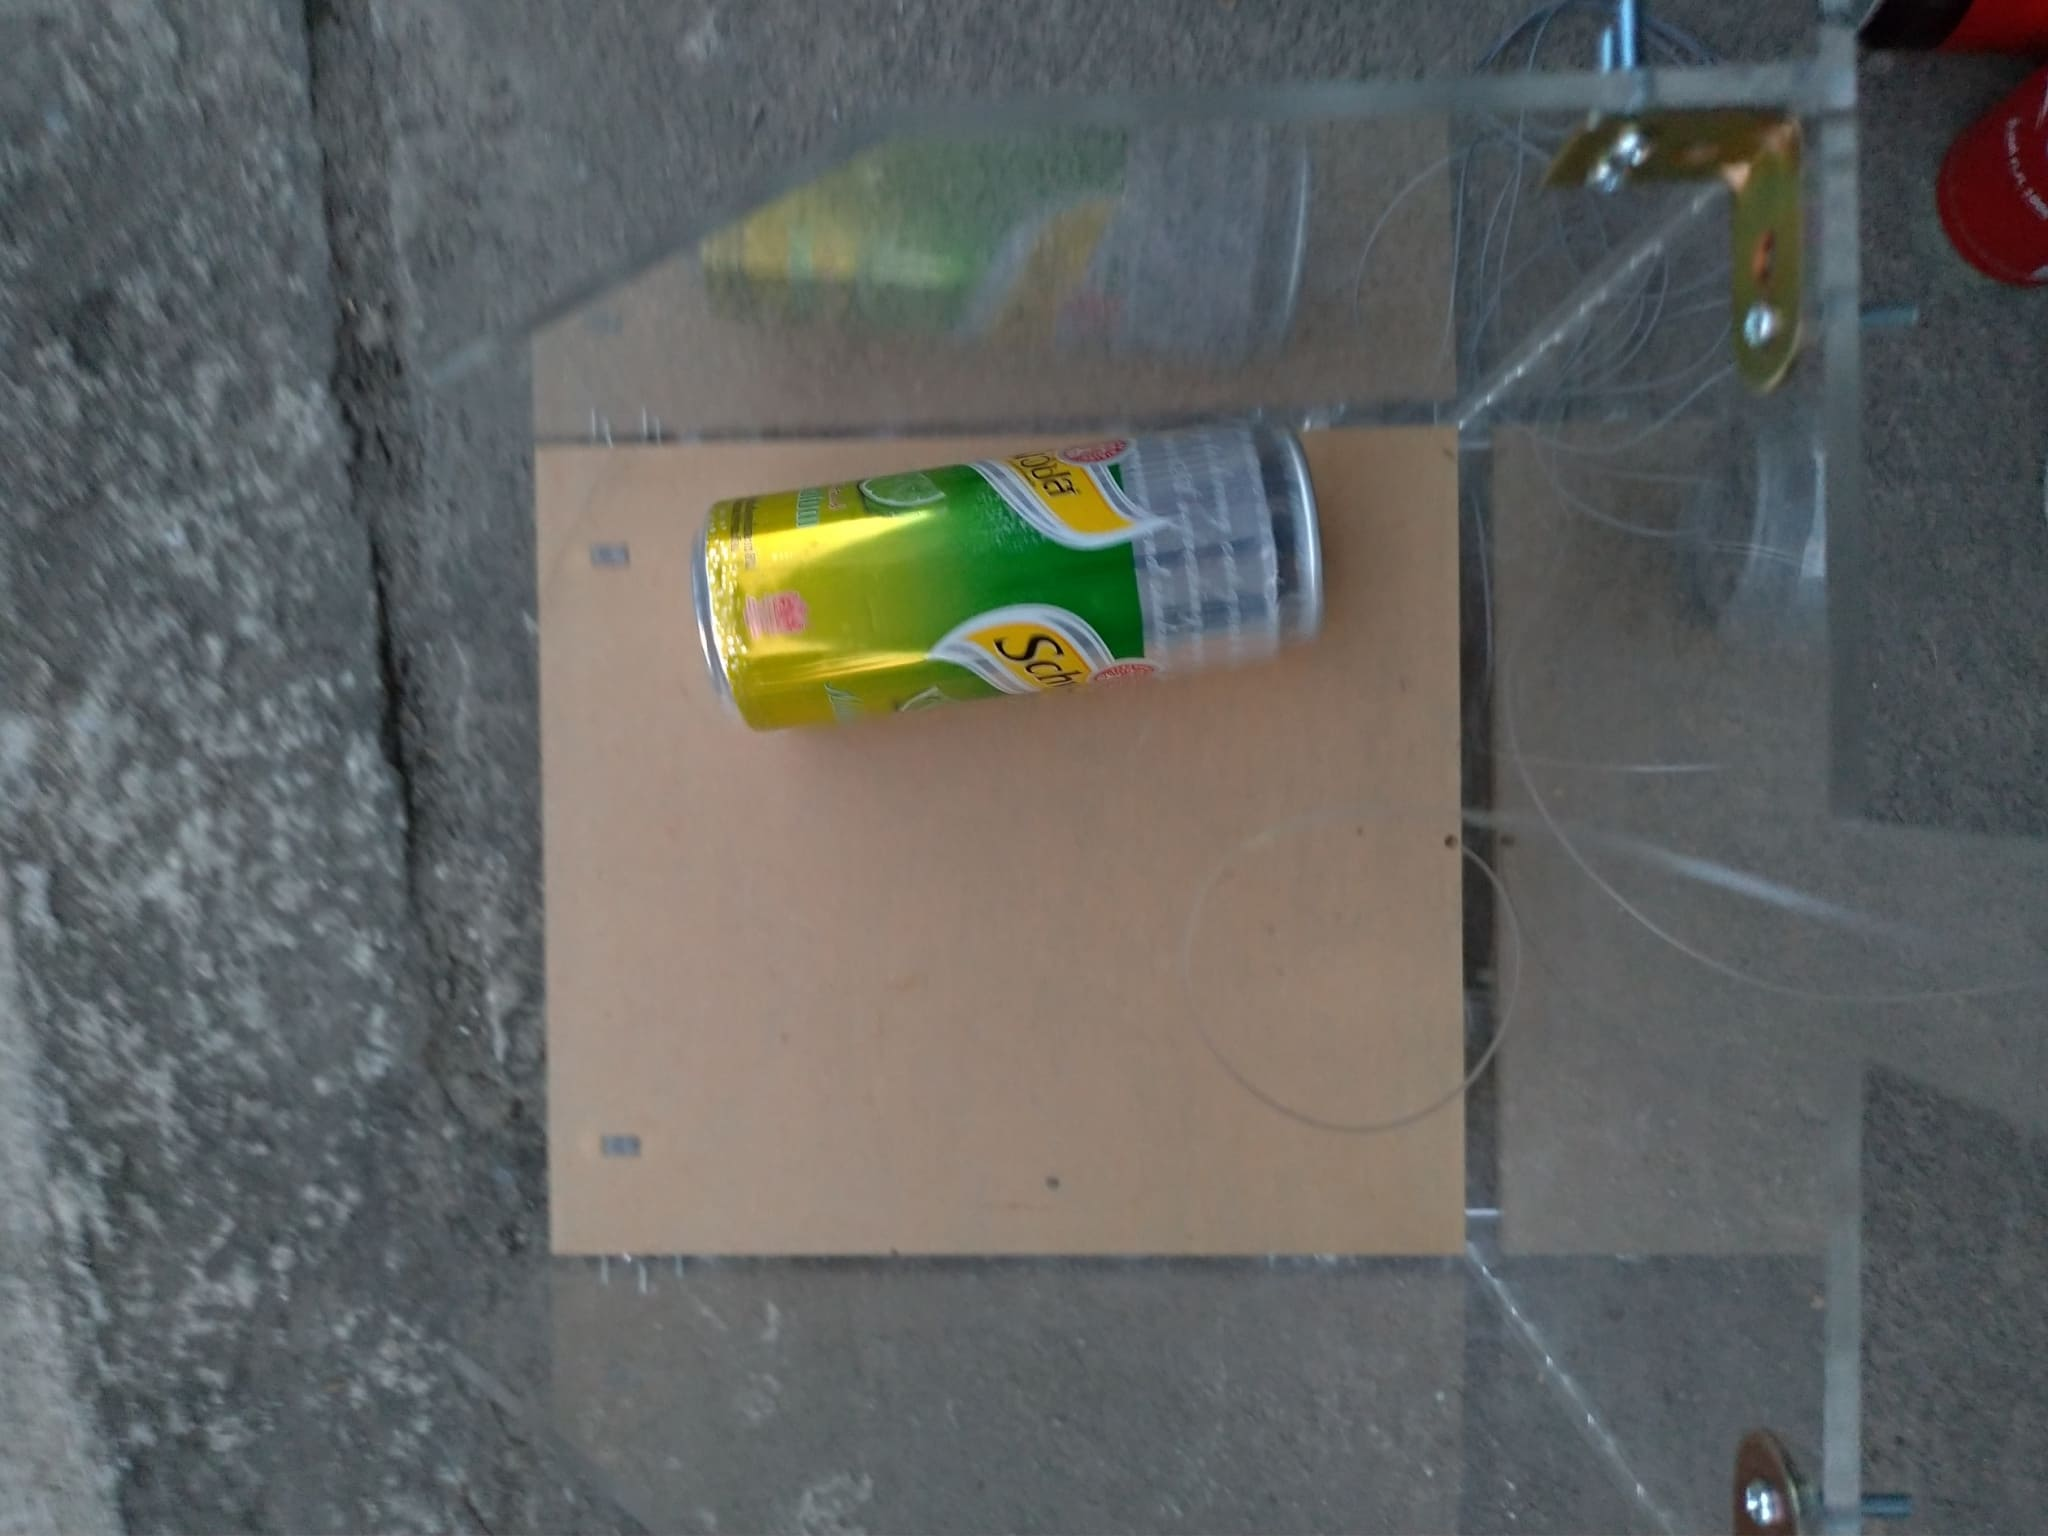AlCan: (689, 416, 1334, 736), (1927, 69, 2048, 284)
